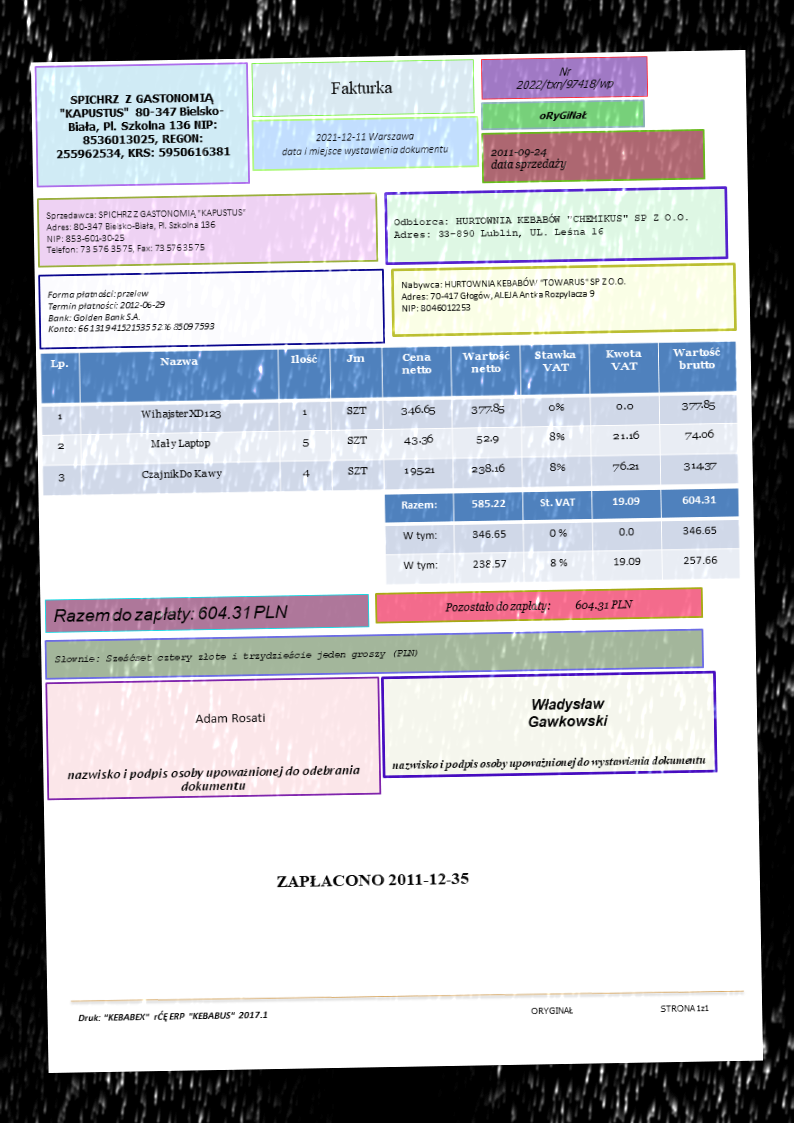Table: (40, 341, 739, 497), (384, 488, 740, 586)
TextBox: (52, 90, 232, 161), (44, 206, 248, 256), (392, 209, 691, 242), (64, 762, 361, 795), (398, 275, 628, 314), (46, 286, 217, 335), (52, 646, 421, 666), (390, 753, 708, 775), (49, 602, 293, 627), (277, 129, 450, 159), (274, 868, 473, 891), (442, 597, 635, 616), (512, 63, 616, 95), (75, 1008, 270, 1025), (526, 693, 610, 730), (488, 147, 568, 174), (328, 79, 394, 98), (192, 711, 267, 726), (536, 108, 589, 124), (658, 1003, 710, 1016), (528, 1004, 574, 1017)
